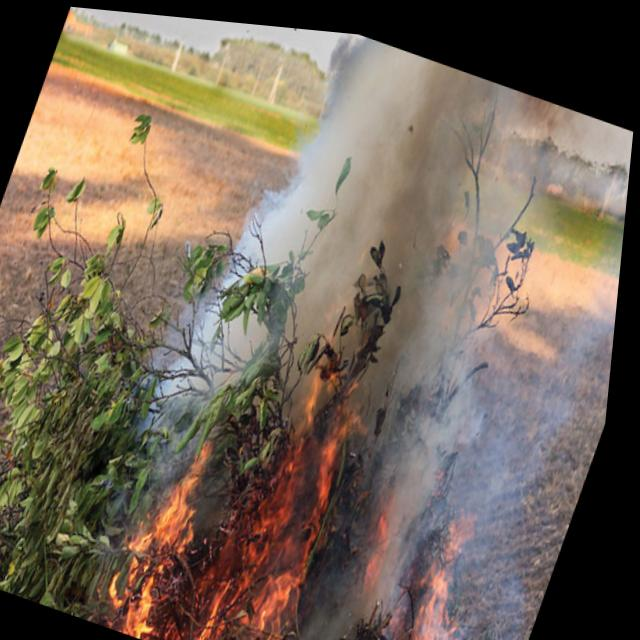Fire: (94, 269, 612, 640)
